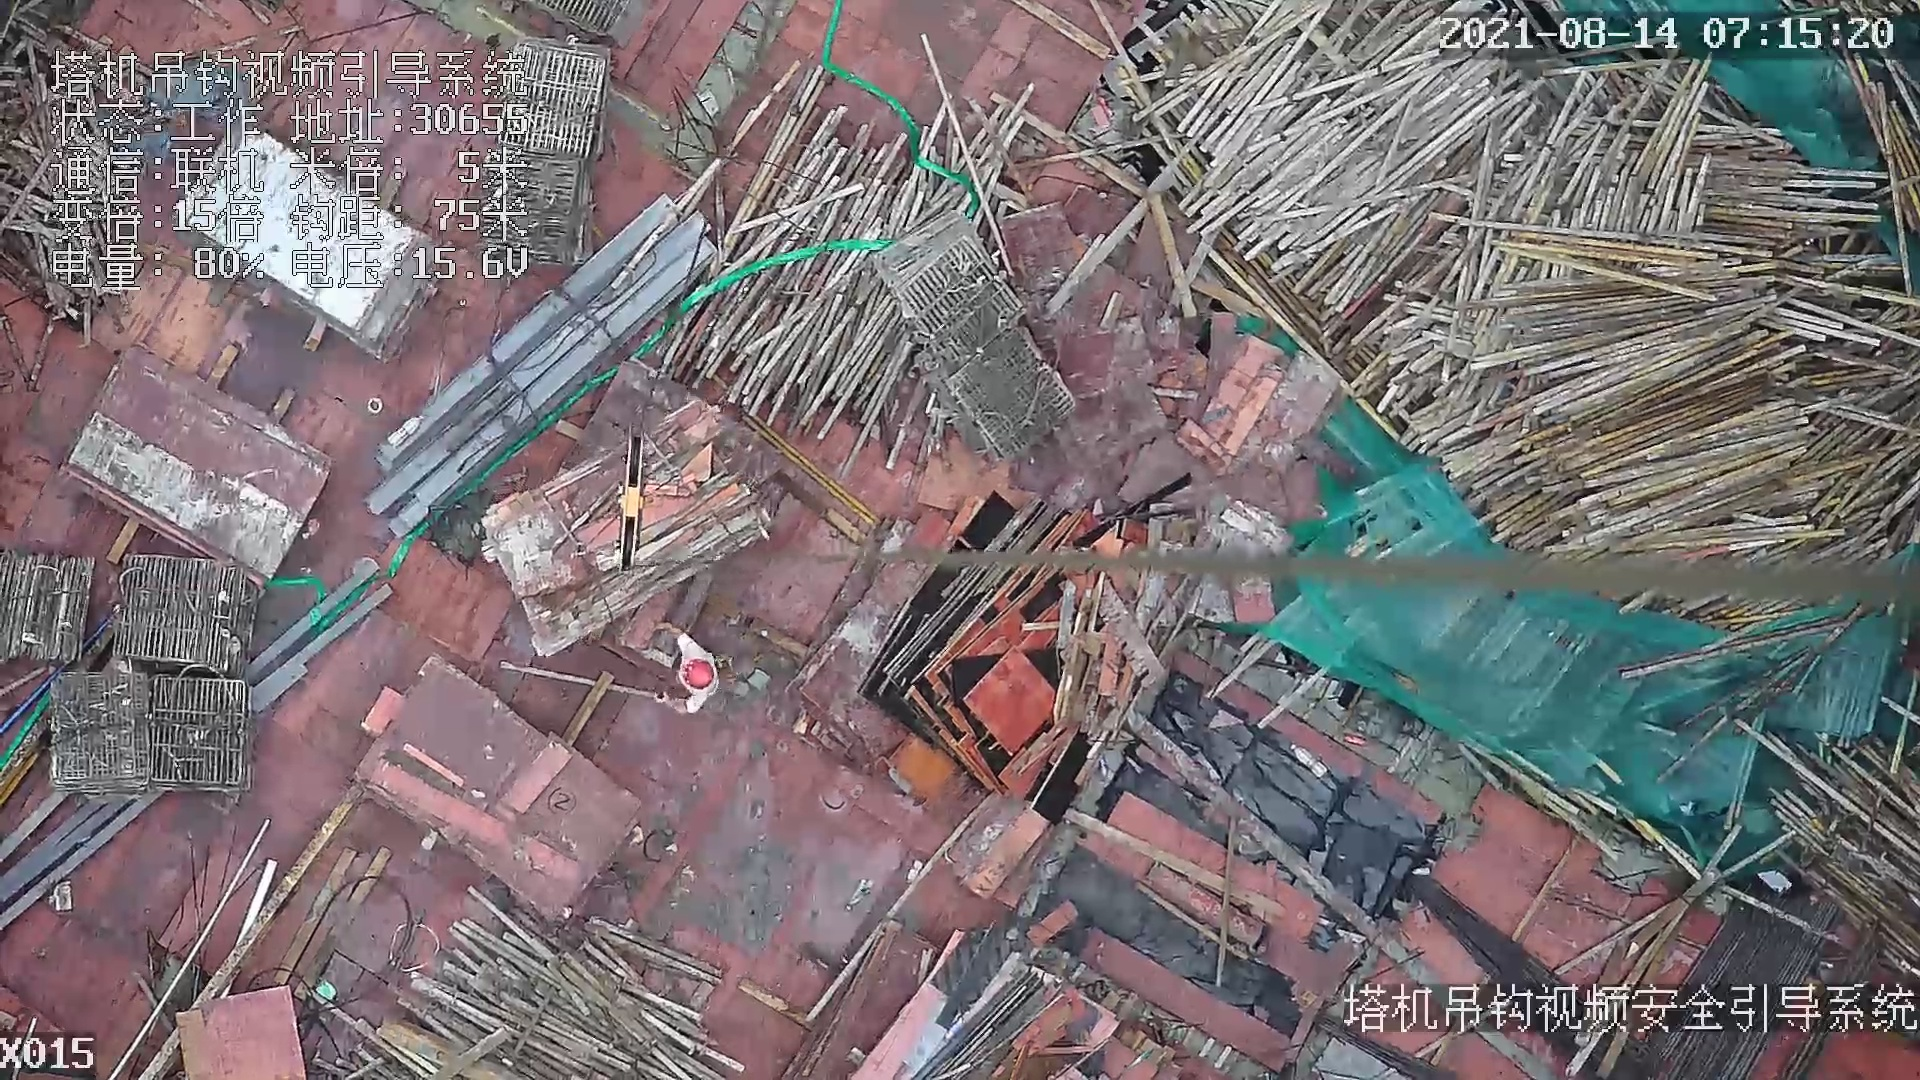helmet: (682, 656, 719, 690)
hook: (605, 422, 658, 578)
person: (646, 621, 723, 713)
